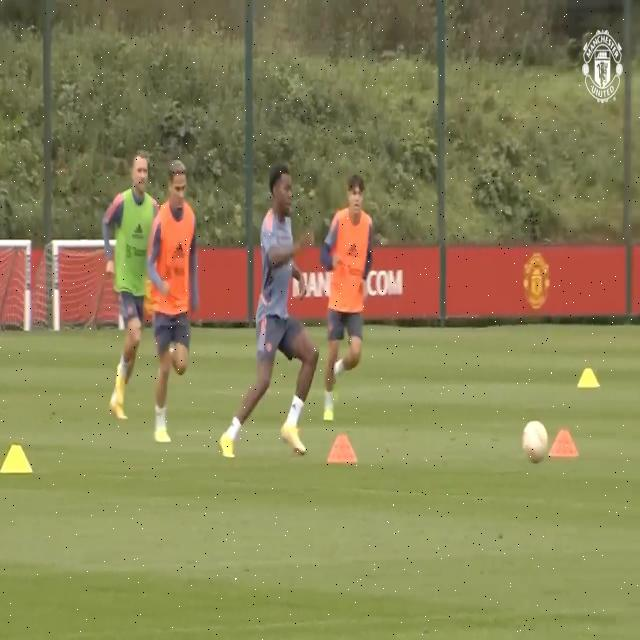Adidas: (131, 218, 145, 240), (171, 240, 186, 259), (346, 241, 358, 259)
